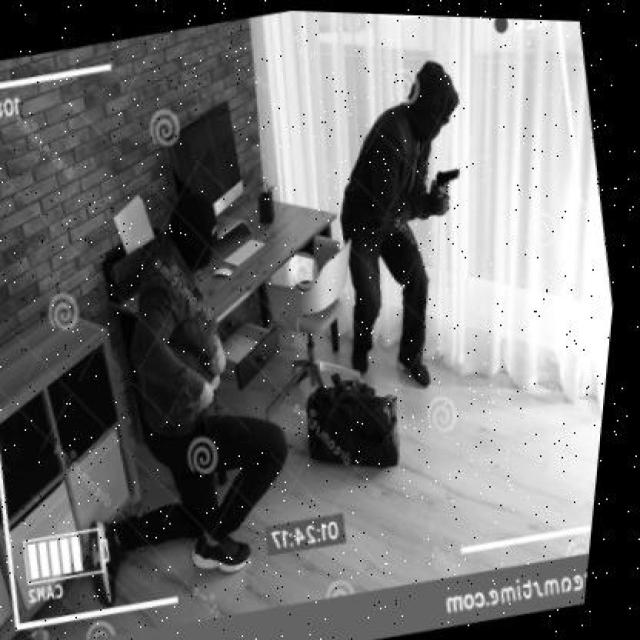weapon: (431, 167, 461, 205)
